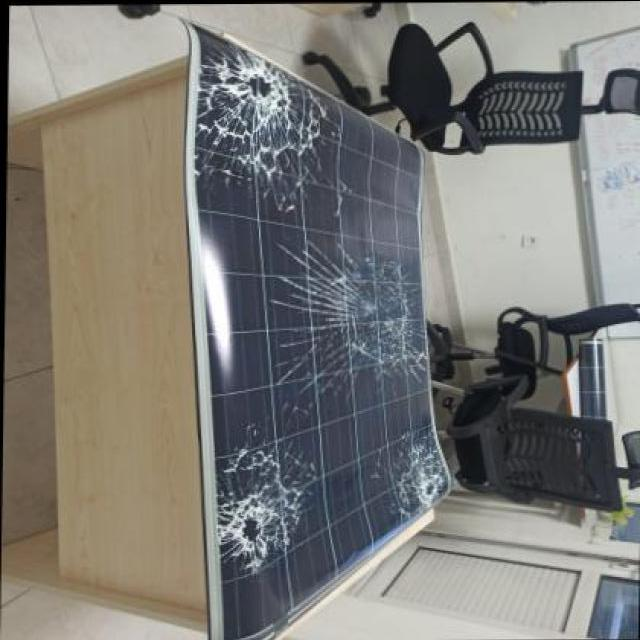cracked: (176, 29, 446, 628)
